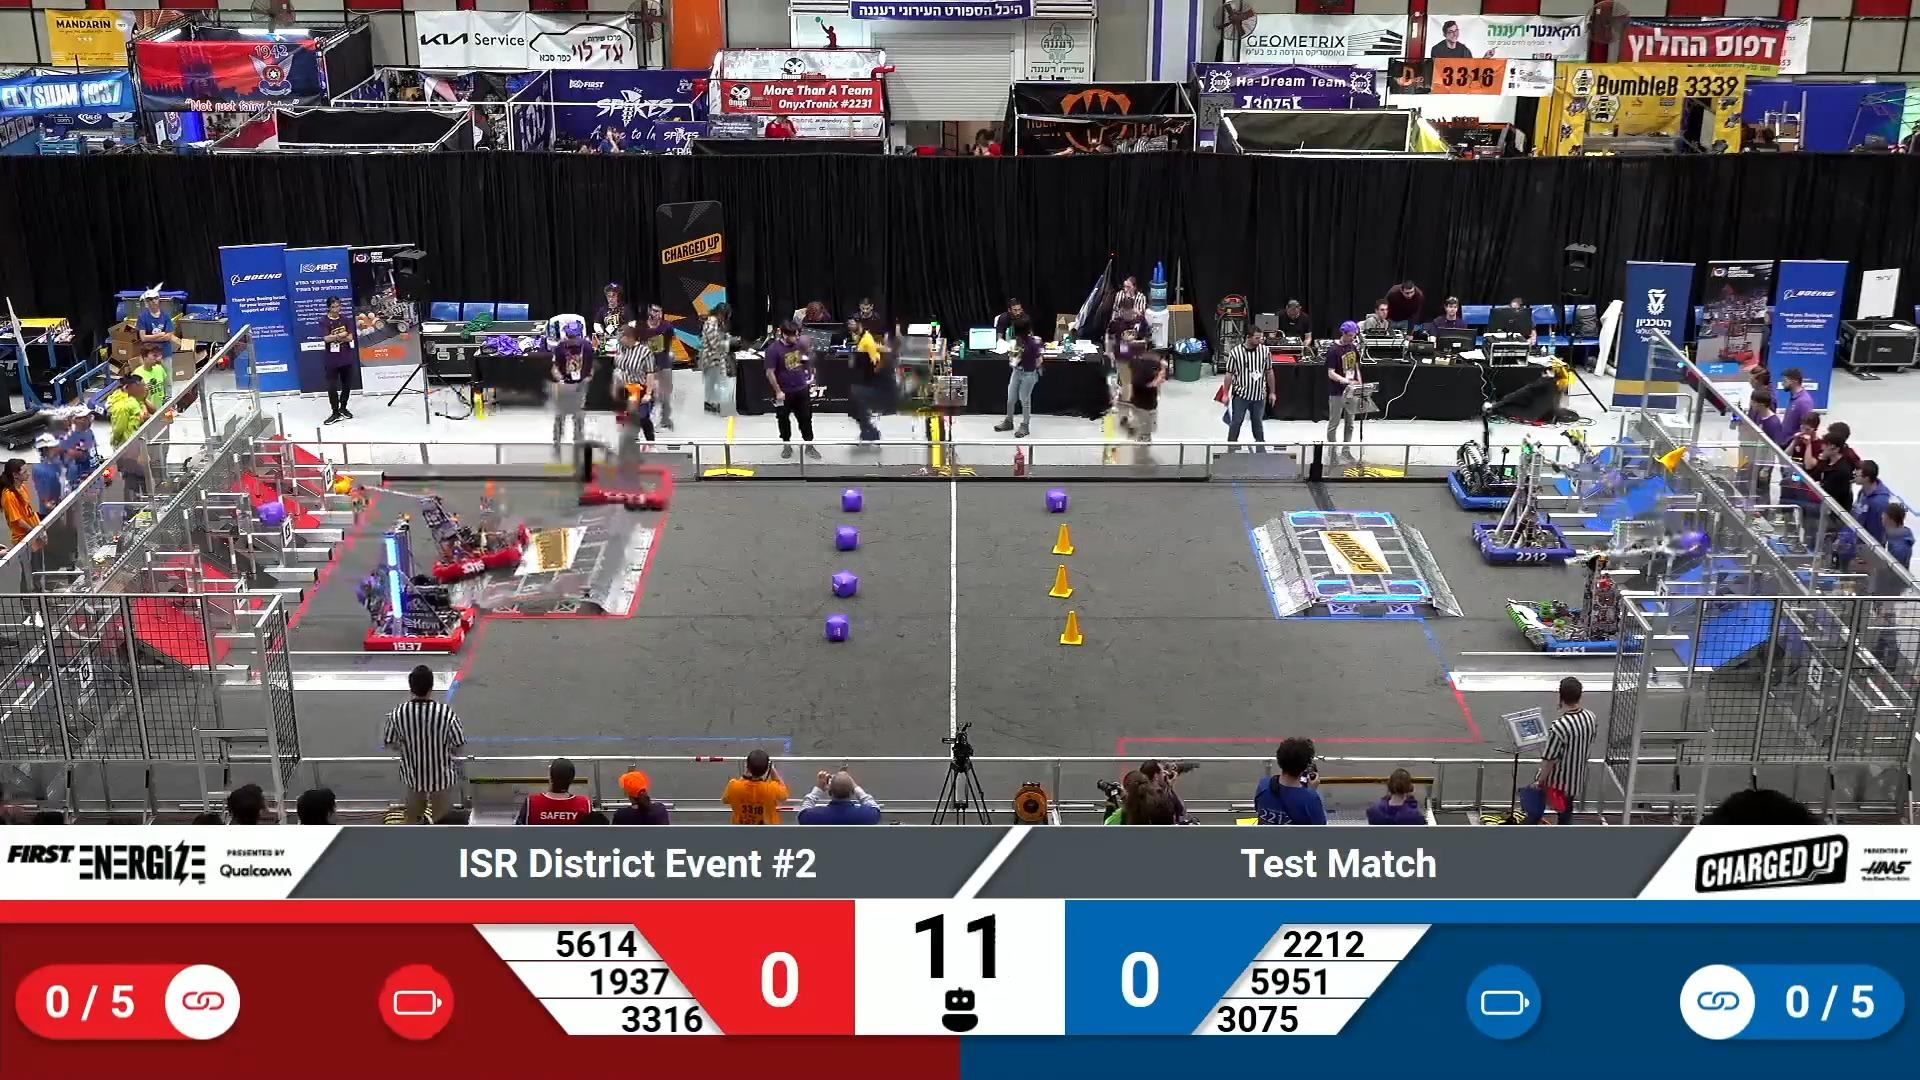robot: (1506, 535, 1685, 655), (1445, 364, 1565, 512), (364, 510, 475, 653), (1470, 436, 1581, 568), (572, 382, 675, 510), (423, 484, 531, 580)
